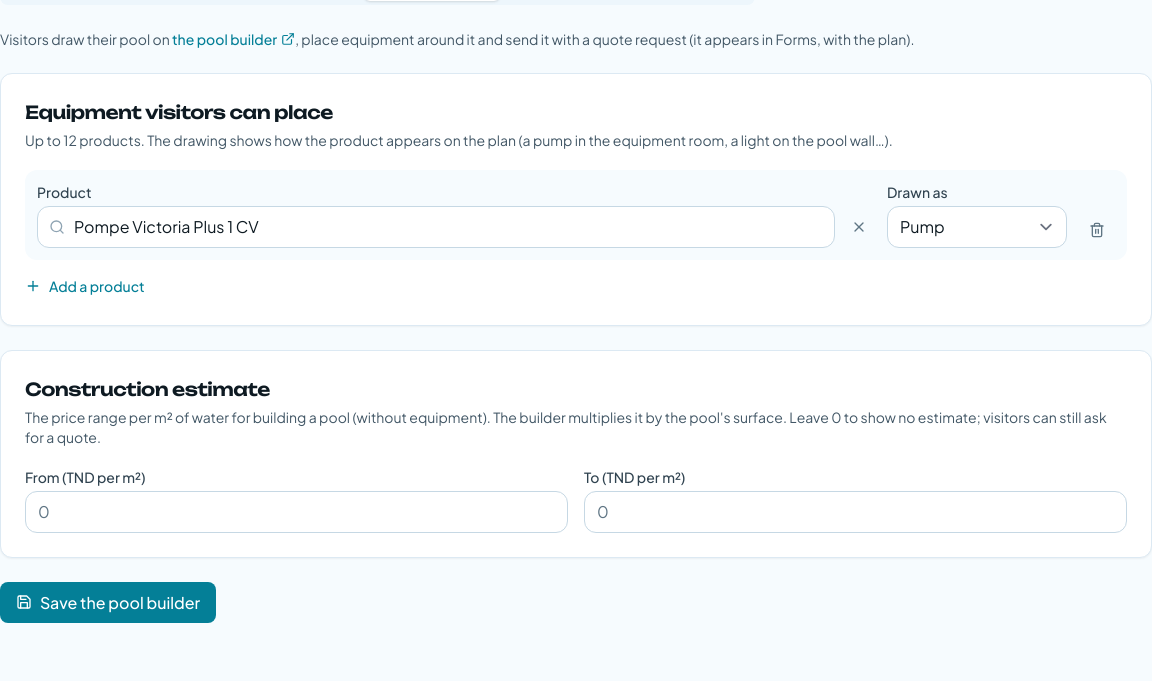
Test: admin pool builder settings › chooses the equipment, how it is drawn, and the price per m²
Expected: the dropdown labelled "Product" holds "Pompe Victoria Plus 1 CV", [37, 206, 835, 248]
Click the button "Add a product". click: (85, 286)
box: [25, 276, 145, 296]
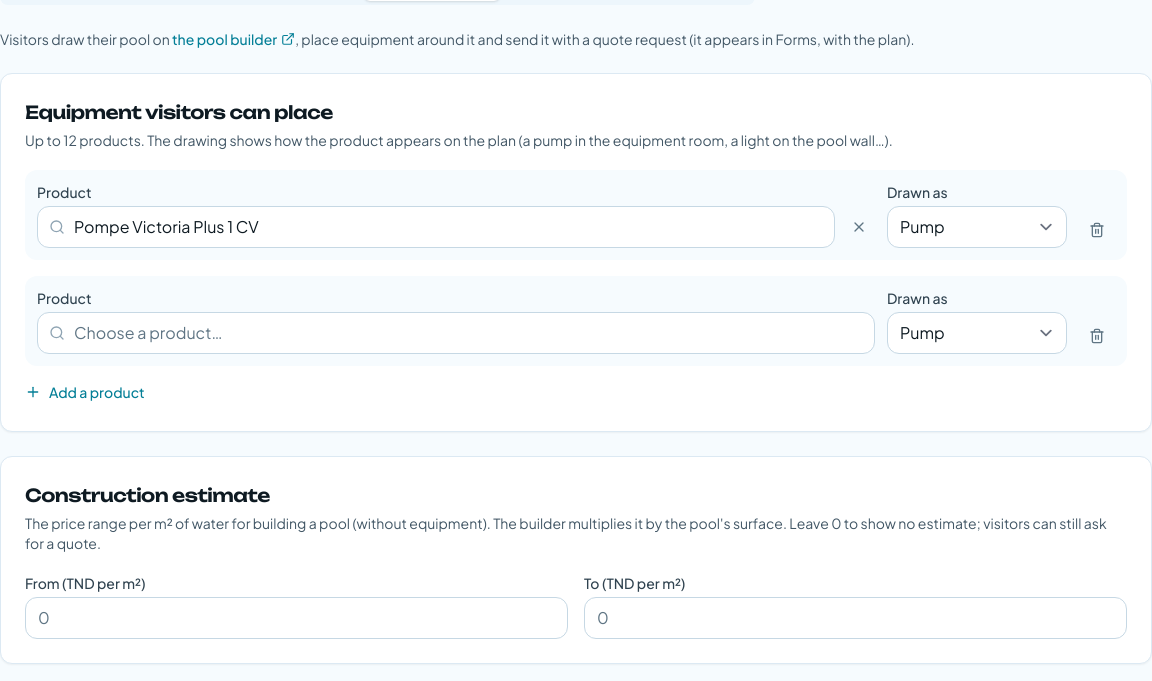
Click the button "Add a product". click: (85, 392)
box: [25, 382, 145, 402]
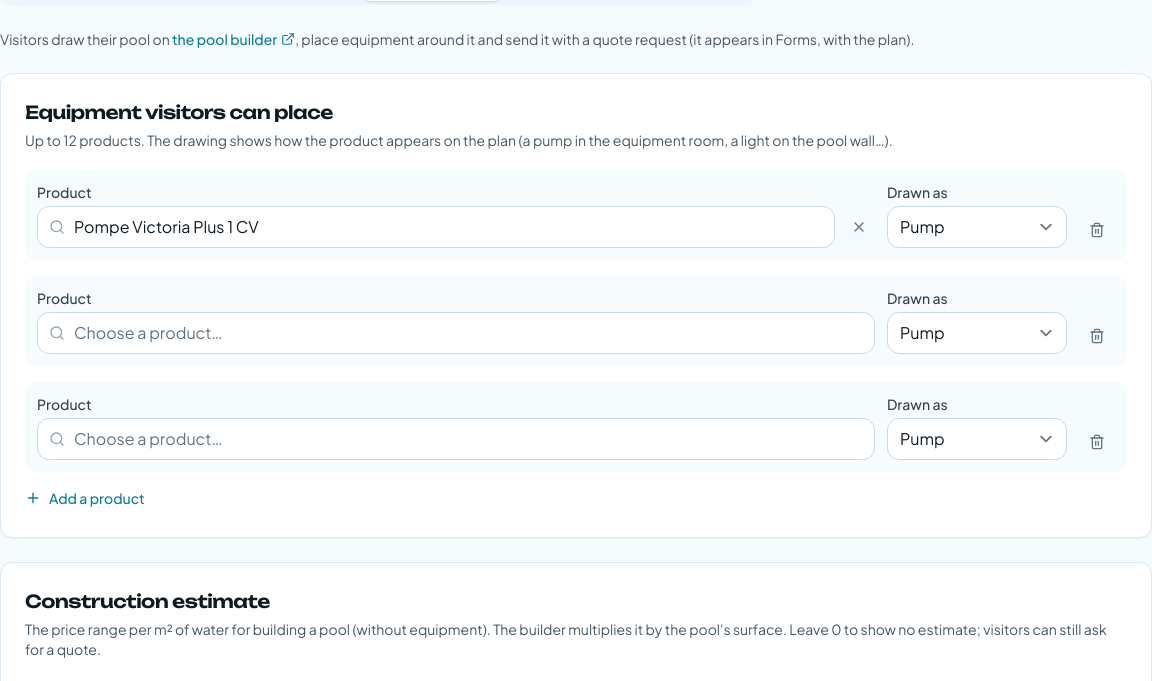
Type "inox" into the 2nd dropdown labelled "Product". click: (456, 333)
box: [37, 312, 875, 354]
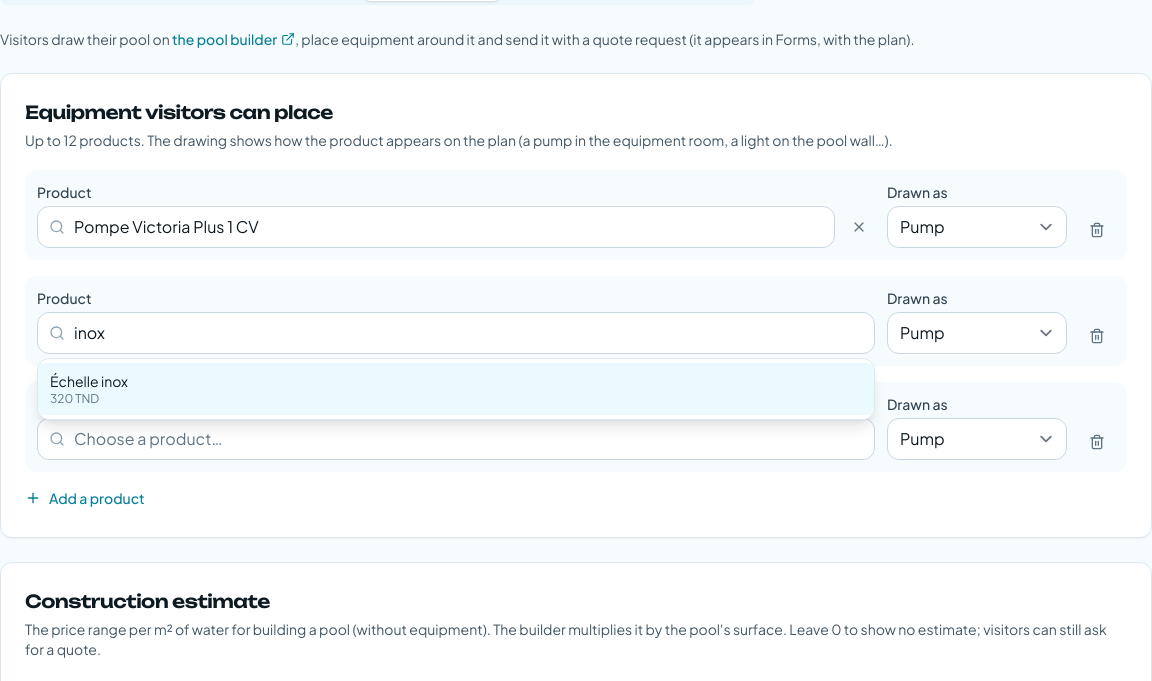
Press the mouse on the option "Échelle inox 320 TND" at (89, 381), box [38, 363, 874, 415]
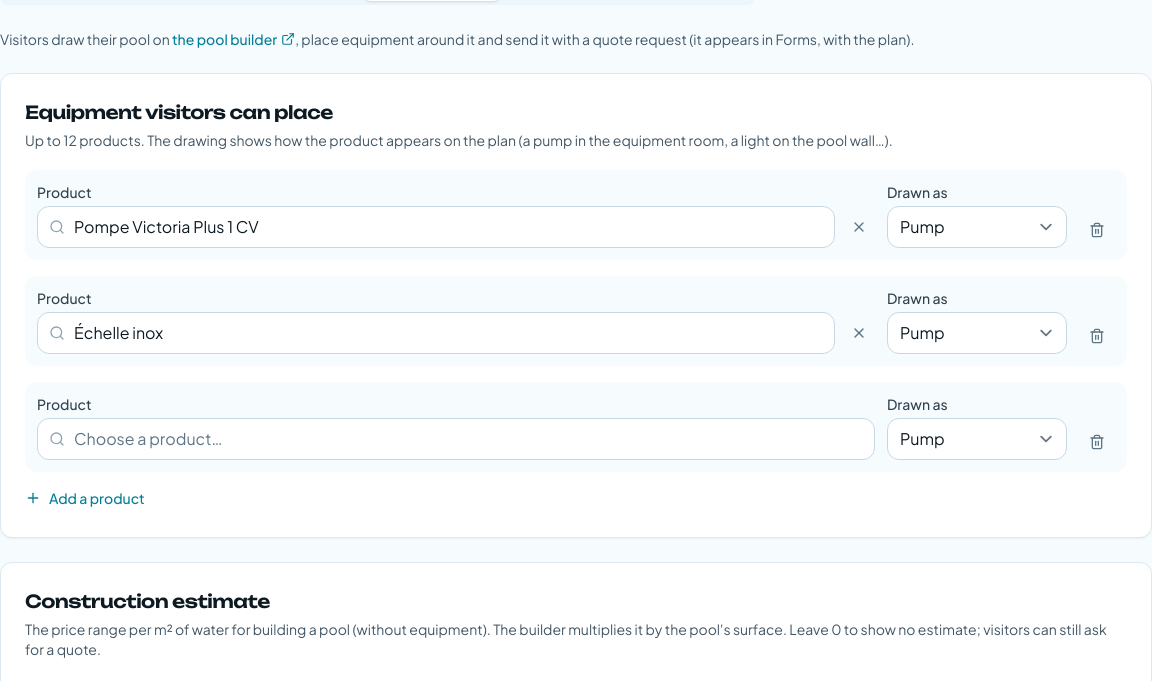
Select "Ladder" in the 2nd dropdown labelled "Drawn as". click: (977, 333)
box: [887, 312, 1067, 354]
(page scrolled)
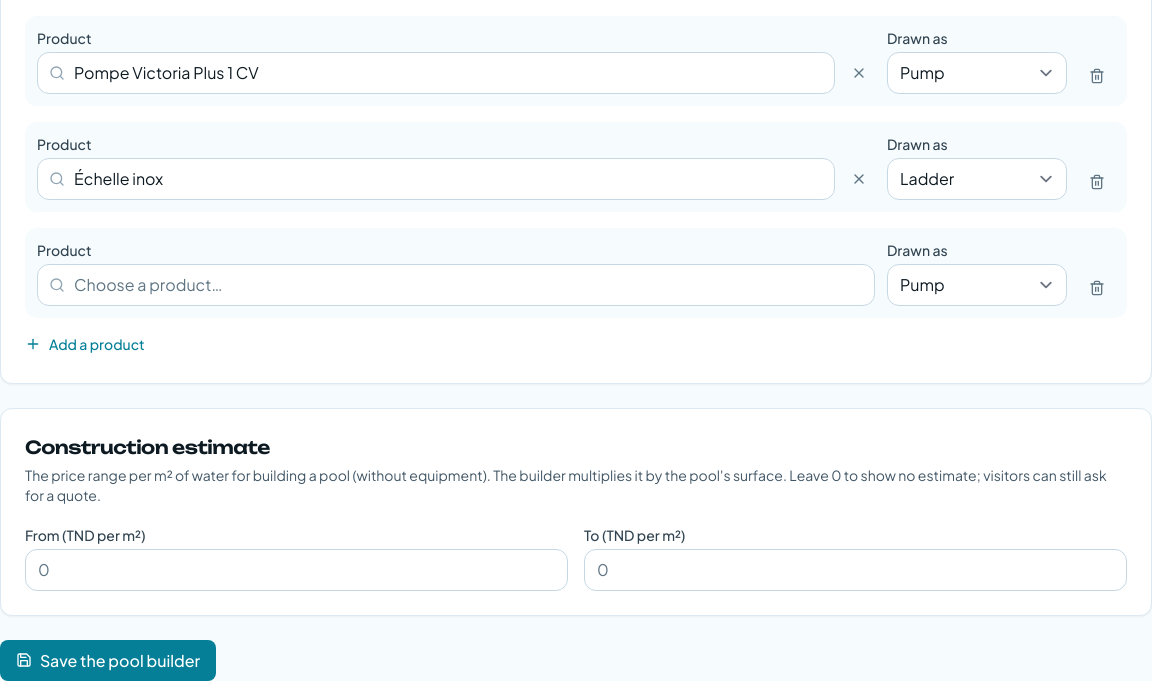
Type "900" into the number field labelled "From (TND per m²)". click: (296, 570)
box: [25, 549, 568, 591]
Type "1400" into the number field labelled "To (TND per m²)". click: (856, 570)
box: [584, 549, 1127, 591]
Click the button "Save the pool builder". click: (108, 660)
box: [0, 640, 216, 680]
(page scrolled)
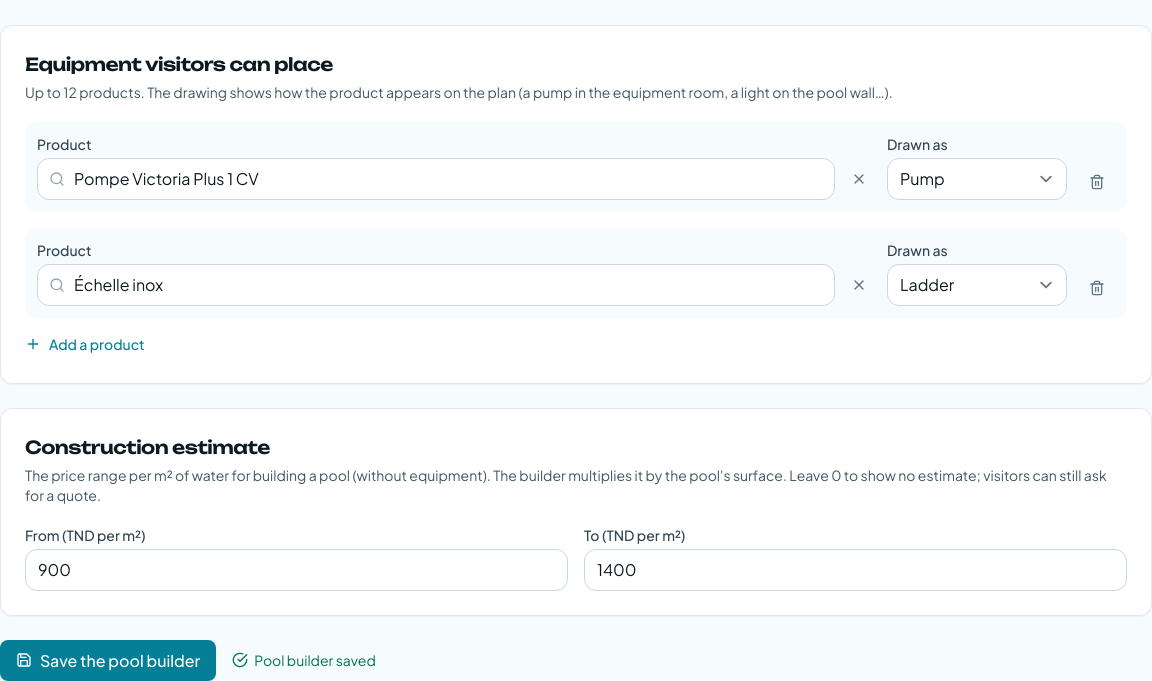
Result: the message reads "Pool builder saved" at [254, 651, 376, 669]
